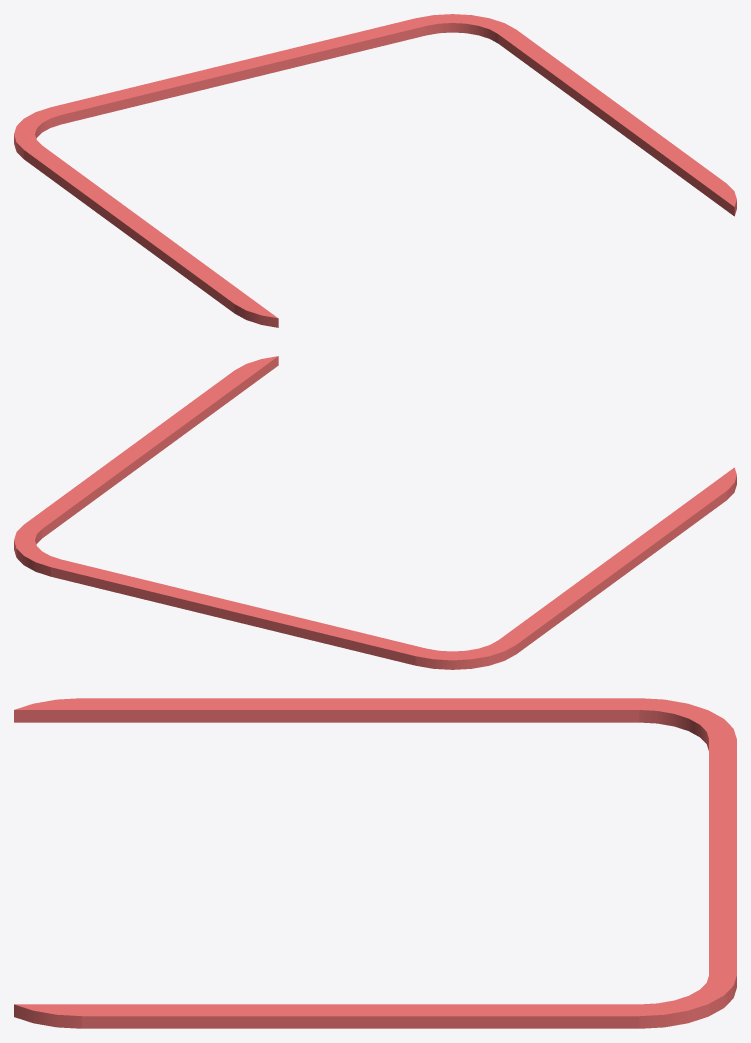
The model's file is mineshaft-borderline.fbx.
The picture shows the model from 3 angles, top to bottom: view 1: azimuth 30°, elevation 25°; view 2: azimuth 150°, elevation 25°; view 3: azimuth 270°, elevation 25°; orthographic projection. The views are drawn at different scales.
Visible parts, largest first — view 1: SketchUp; view 2: SketchUp; view 3: SketchUp.
Boxes of the visible parts, x1=… form: SketchUp: x1=14, y1=14, x2=736, y2=327; SketchUp: x1=14, y1=356, x2=736, y2=669; SketchUp: x1=14, y1=698, x2=736, y2=1028.
Size of the model in its own units: 540 by 10 by 519.
